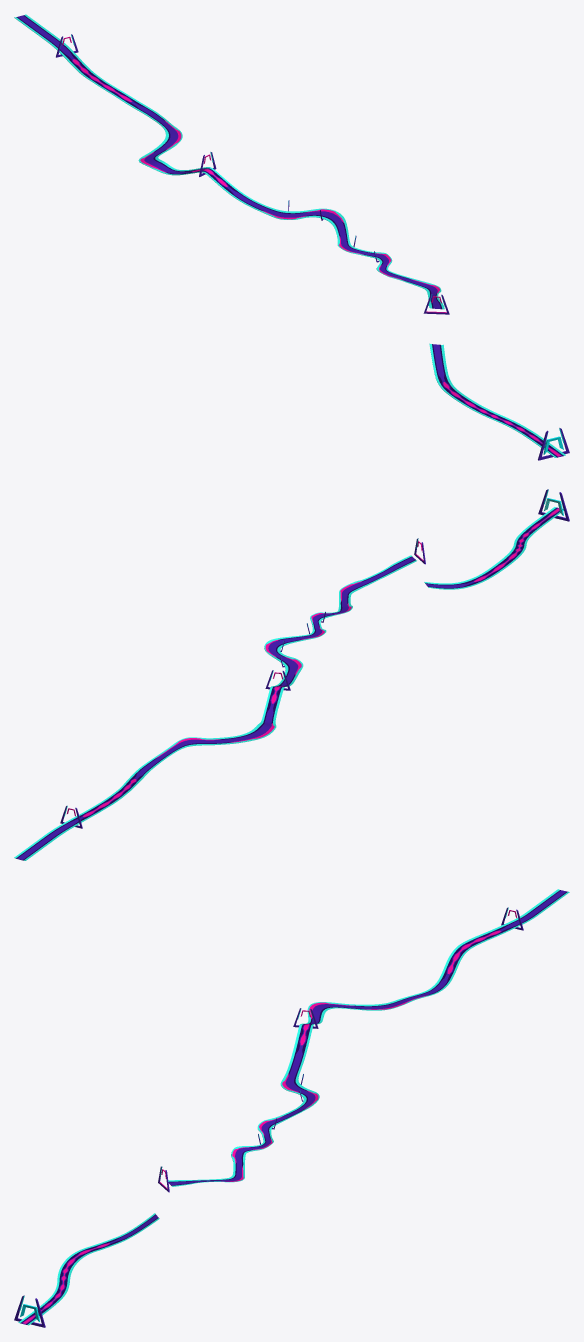
Rendered from Track_Frost.FBX.
The picture shows the model from 3 angles, top to bottom: view 1: azimuth 30°, elevation 25°; view 2: azimuth 150°, elevation 25°; view 3: azimuth 330°, elevation 25°; orthographic projection.
Parts seen in each view (by area): view 1: sadsadasd; view 2: sadsadasd; view 3: sadsadasd.
Part boxes in pixels (bbox=[...]): sadsadasd: bbox=[14, 14, 569, 460]; sadsadasd: bbox=[14, 489, 569, 860]; sadsadasd: bbox=[14, 889, 569, 1327].
Bounding box in the file's own units: 14247 × 9852 × 118061.
